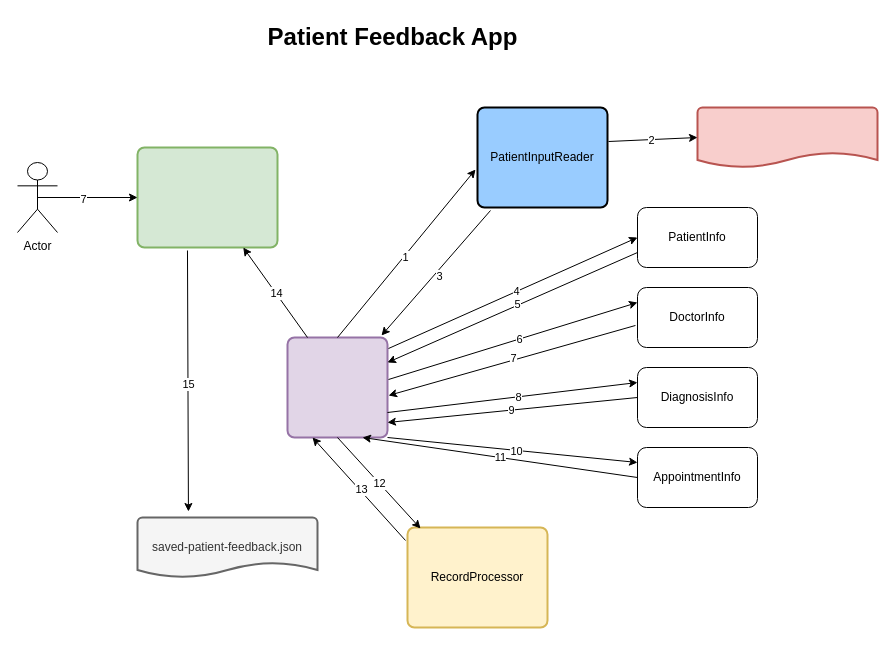
This 896x645 diagram has some shape labels left out. The box of each missing label's shape, as (x1, y1, x2, y2) in pixels:
InteractiveApp: (136, 146, 278, 248)
patient-feedback-raw-data.json: (696, 106, 878, 168)
PatientMainApp: (286, 336, 388, 438)
